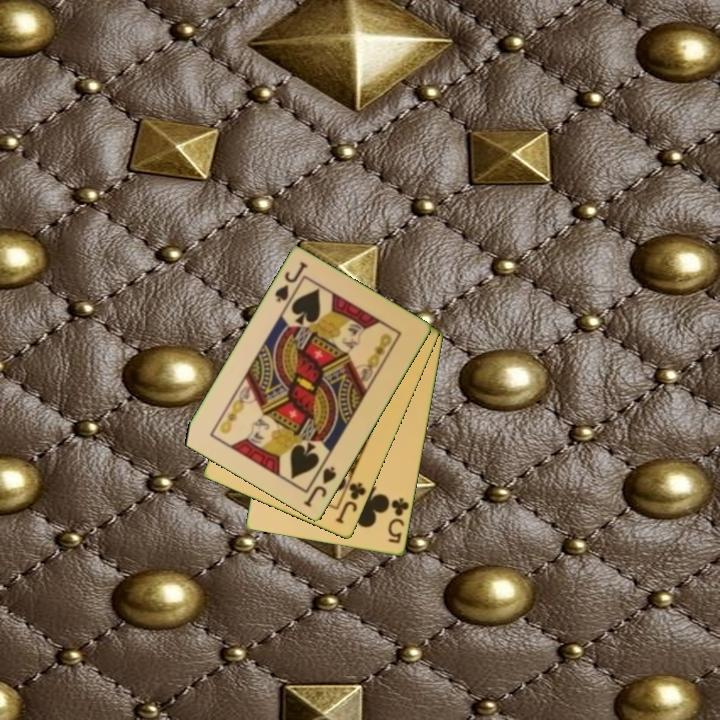5c: (385, 495, 412, 547)
Jc: (332, 474, 369, 527)
Js: (271, 258, 311, 306), (300, 463, 339, 511)
